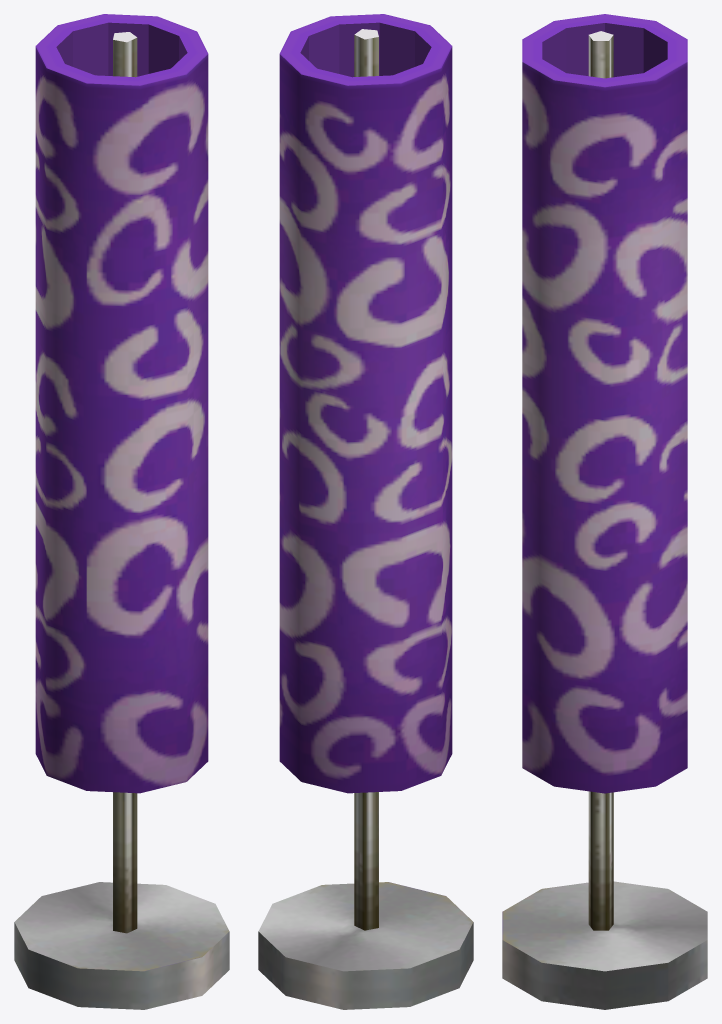
Rendered from furni_0200147_01.FBX.
3 views of the same model, side by side, from view 1: azimuth 30°, elevation 25°; view 2: azimuth 150°, elevation 25°; view 3: azimuth 270°, elevation 25° (orthographic).
Parts seen in each view (by area): view 1: furni_0200147_01; view 2: furni_0200147_01; view 3: furni_0200147_01.
Boxes of the visible parts, x1,y1,x2,y2 form: furni_0200147_01: [14, 14, 229, 1009]; furni_0200147_01: [258, 14, 473, 1009]; furni_0200147_01: [502, 14, 707, 1009].
Bounding box in the file's own units: 25.94 × 123 × 24.67.
